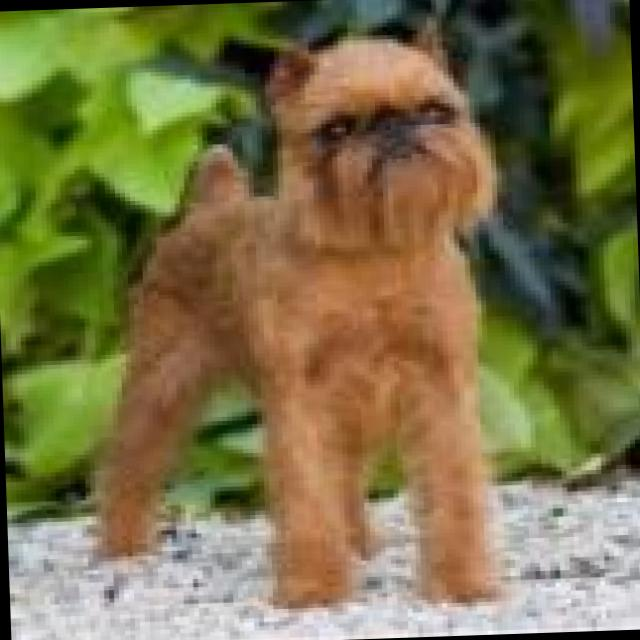Perro: (73, 6, 516, 611)
